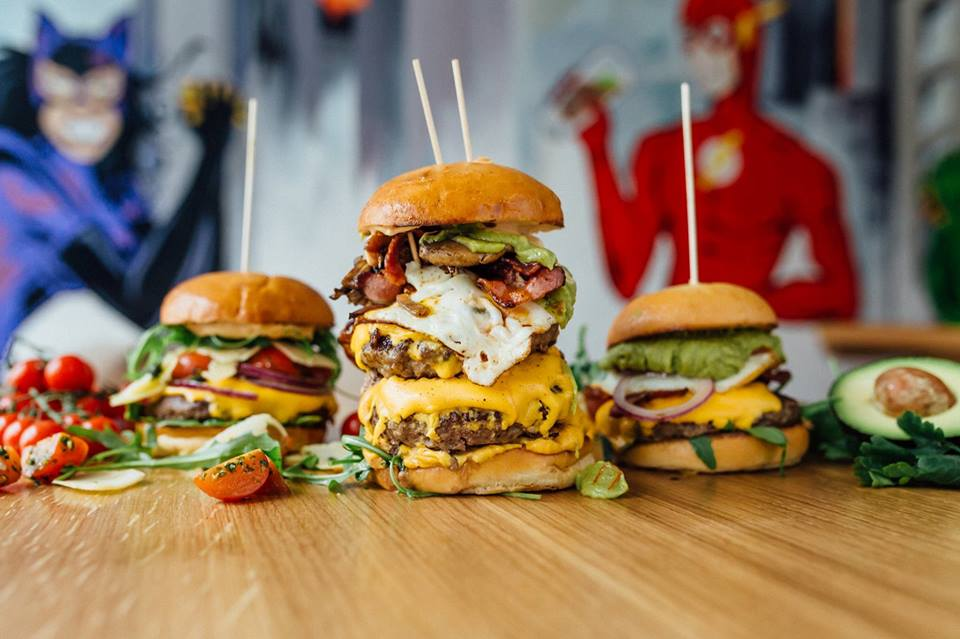hamburger: (345, 146, 593, 514), (587, 264, 809, 486), (139, 272, 345, 470)
